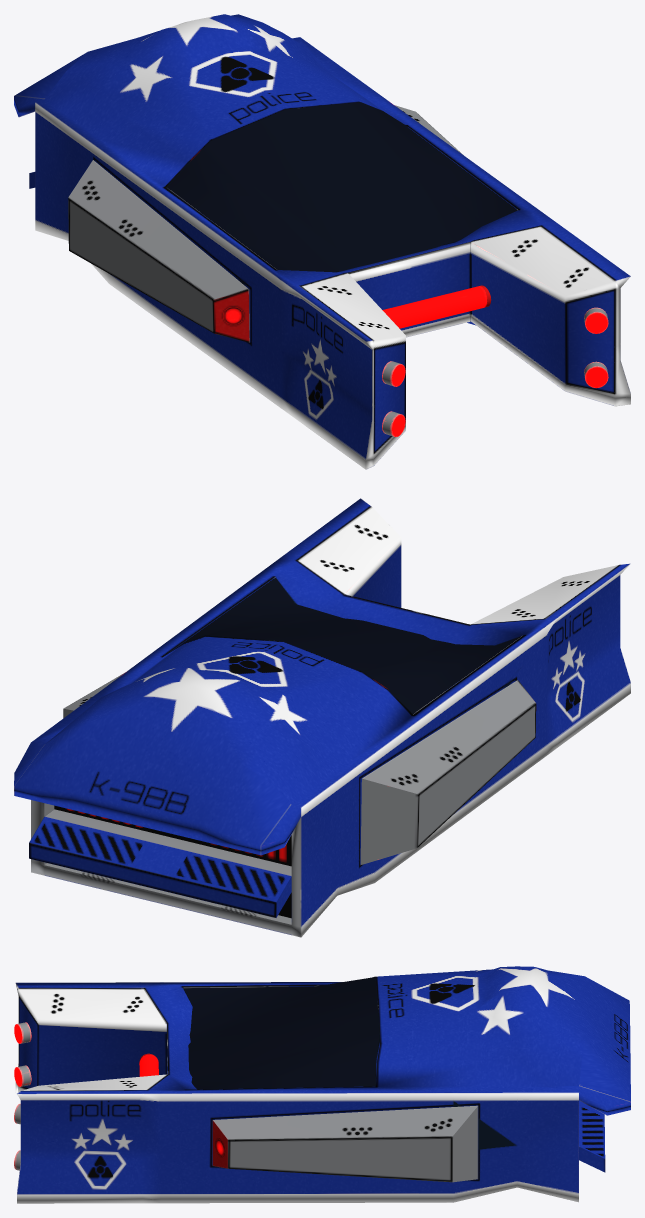
Rendered from kart2.glb.
The picture shows the model from 3 angles, top to bottom: view 1: azimuth 30°, elevation 25°; view 2: azimuth 150°, elevation 25°; view 3: azimuth 270°, elevation 25°; orthographic projection. The views are drawn at different scales.
Visible parts, largest first — view 1: pCube7; view 2: pCube7; view 3: pCube7.
Boxes of the visible parts, x1=… form: pCube7: x1=14, y1=14, x2=630, y2=469; pCube7: x1=14, y1=498, x2=630, y2=937; pCube7: x1=14, y1=966, x2=630, y2=1203.
Bounding box in the file's own units: 6.8 × 3.69 × 12.15.
Materials: 1 (1 with a texture image).
